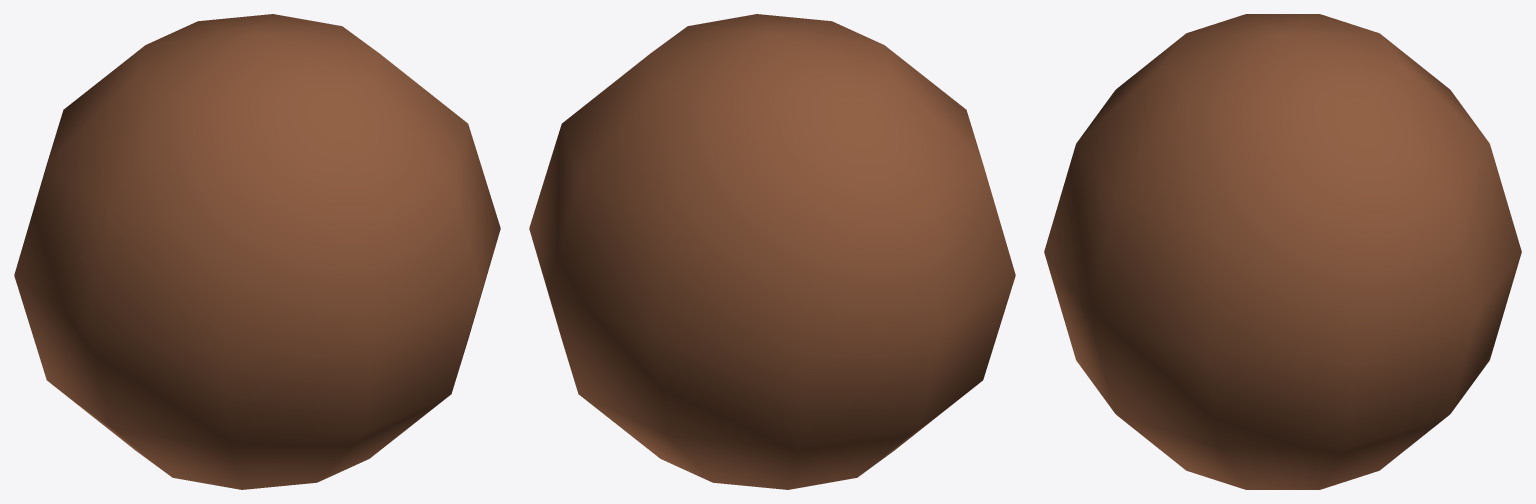
File: SM_Props_Pool_06.fbx
3 renders of one model, left to right at view 1: azimuth 30°, elevation 25°; view 2: azimuth 150°, elevation 25°; view 3: azimuth 270°, elevation 25°, orthographic.
Parts seen in each view (by area): view 1: SM_Props_Pool_06; view 2: SM_Props_Pool_06; view 3: SM_Props_Pool_06.
Part boxes in pixels (bbox=[...]): SM_Props_Pool_06: bbox=[14, 14, 500, 489]; SM_Props_Pool_06: bbox=[529, 14, 1015, 489]; SM_Props_Pool_06: bbox=[1044, 14, 1521, 489].
Bounding box in the file's own units: 0.08 × 0.08 × 0.08.
